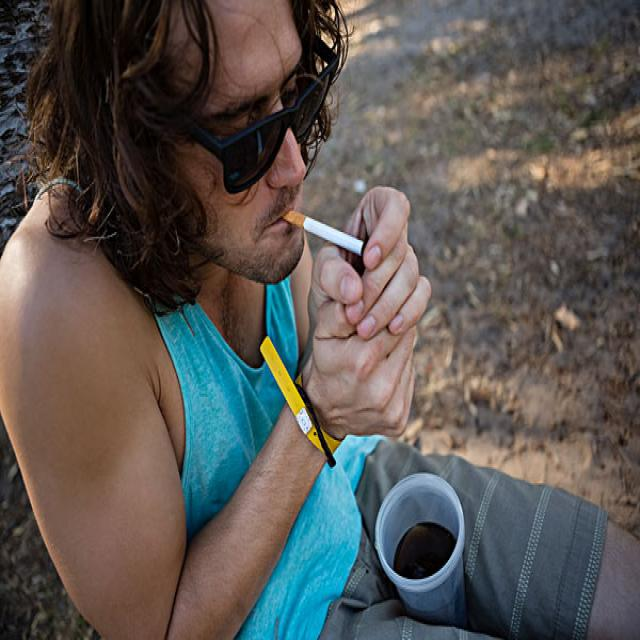smoking: (281, 208, 364, 259)
